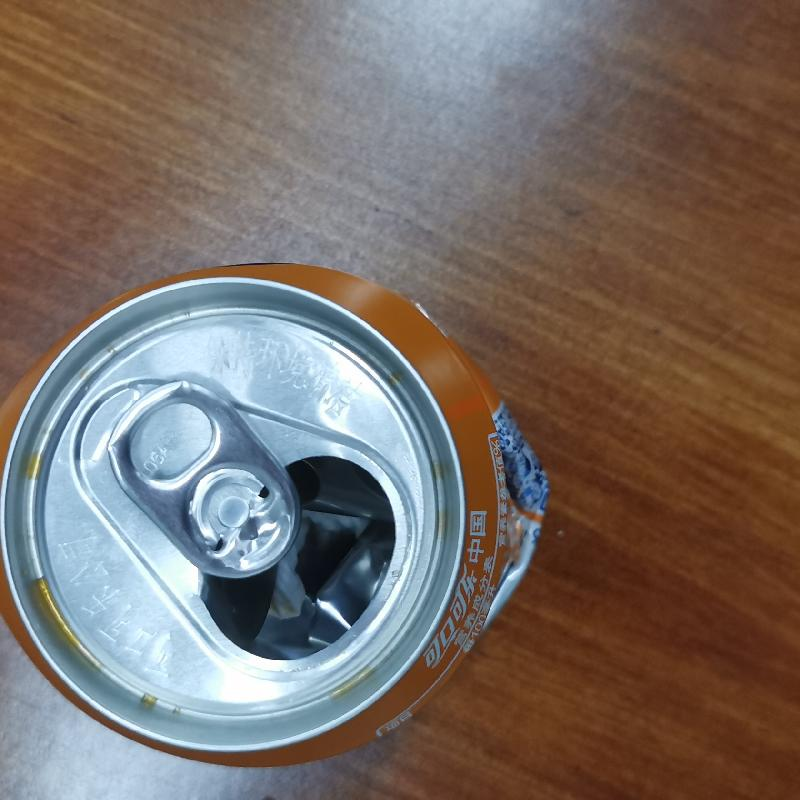cans: (0, 260, 550, 768)
